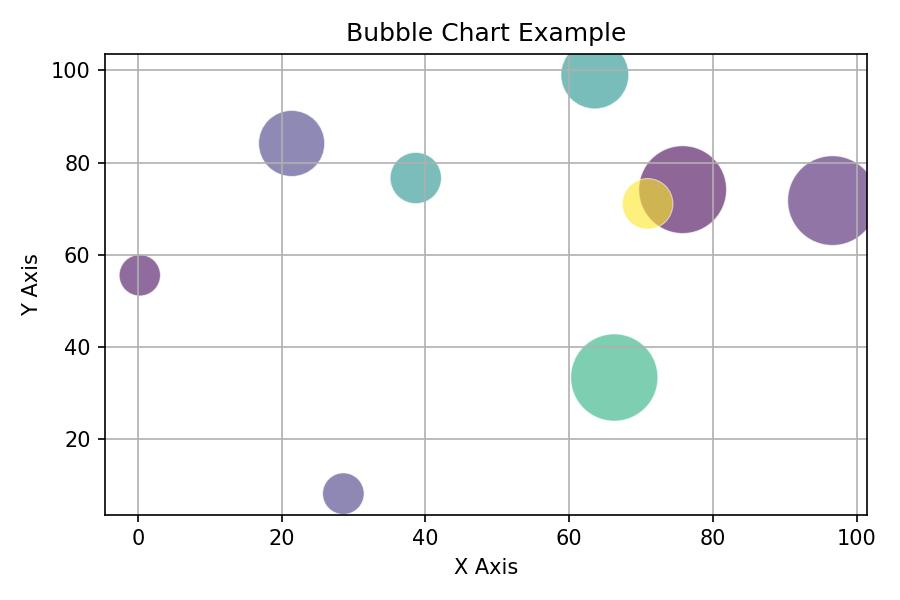axis: (85, 501, 879, 554), (49, 40, 120, 535)
circle: (641, 147, 729, 236), (571, 335, 660, 422), (790, 155, 867, 245), (260, 108, 320, 174), (560, 55, 629, 107), (390, 152, 444, 206), (622, 178, 674, 231), (321, 473, 370, 515), (120, 256, 162, 296)
